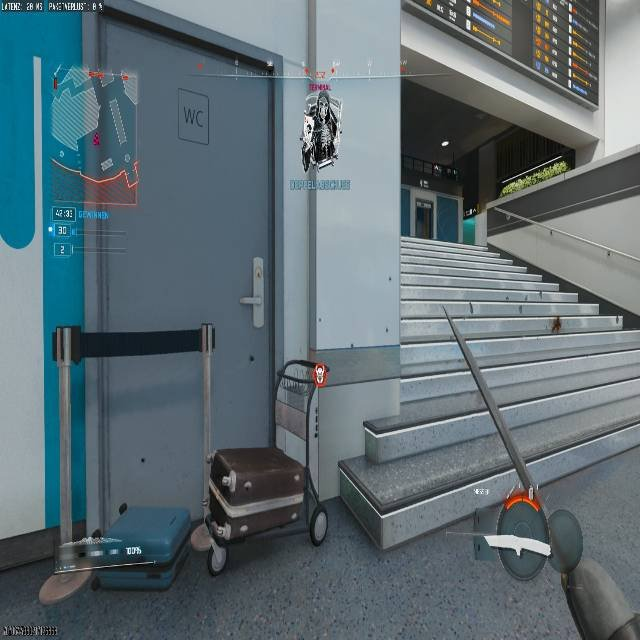player: (302, 88, 340, 170), (549, 313, 562, 333)
